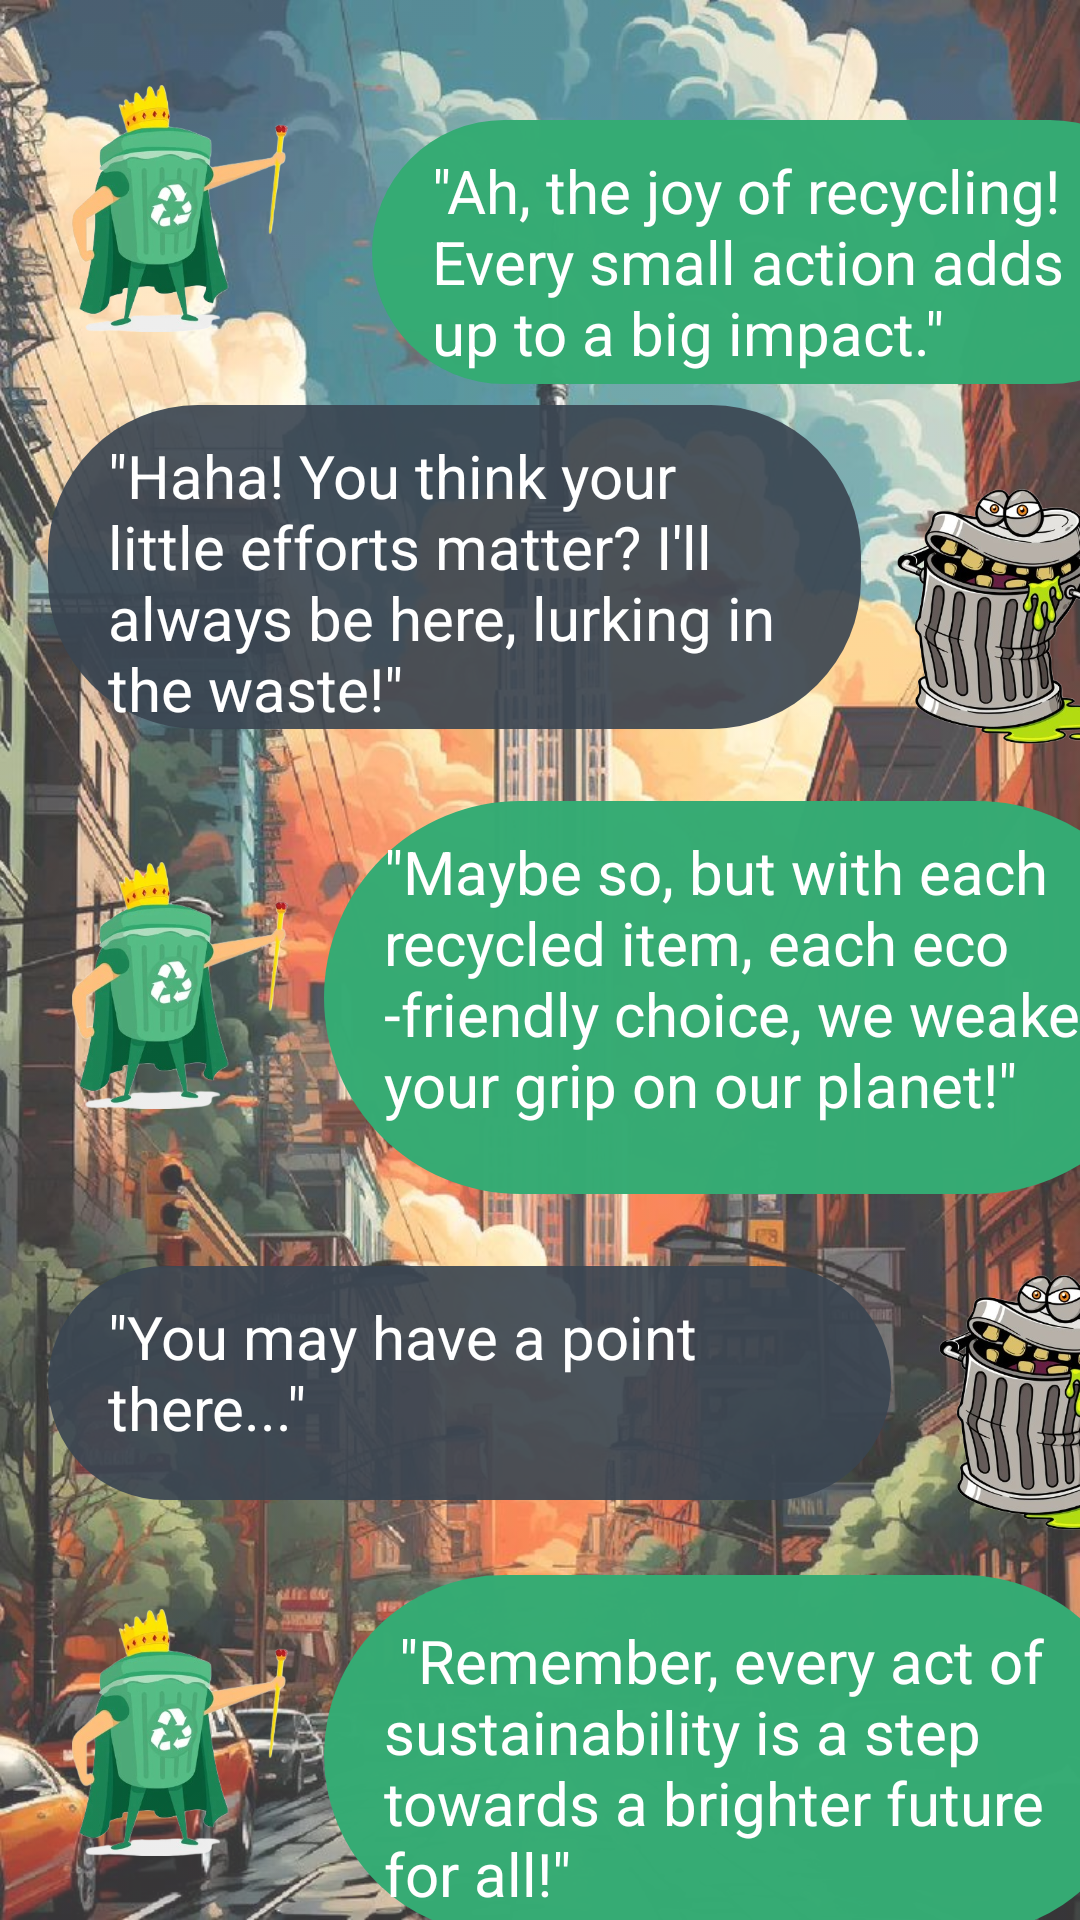

Icon click points for this 1080×1920 phone screenshot, format (x=x, y=y):
recycler hero: (x=180, y=208), (x=180, y=985), (x=180, y=1732)
